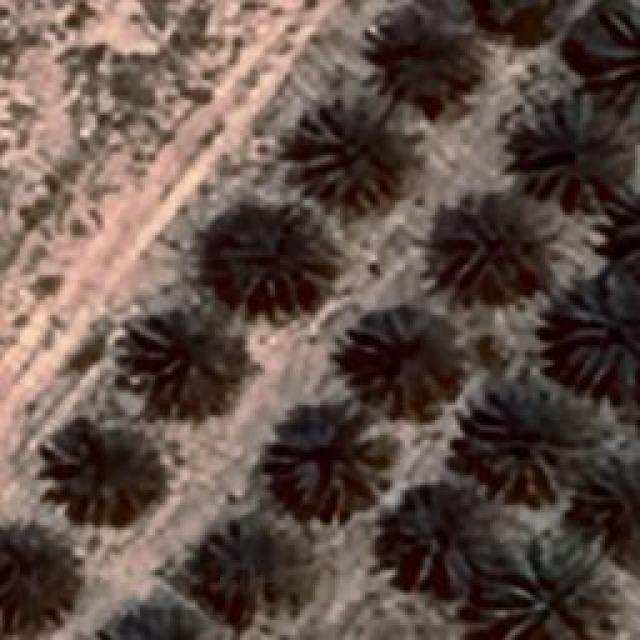PalmTree: (52, 50, 614, 504), (465, 375, 605, 503), (475, 534, 620, 638), (512, 92, 630, 210), (260, 410, 392, 515), (295, 94, 405, 208), (220, 205, 330, 310), (124, 331, 238, 424), (46, 424, 154, 514), (351, 310, 454, 402), (560, 275, 638, 395), (448, 194, 538, 298), (191, 526, 299, 612), (399, 478, 479, 586), (394, 6, 478, 106), (0, 526, 78, 622), (97, 608, 207, 640), (465, 0, 561, 35), (615, 172, 640, 280), (621, 170, 640, 286)
